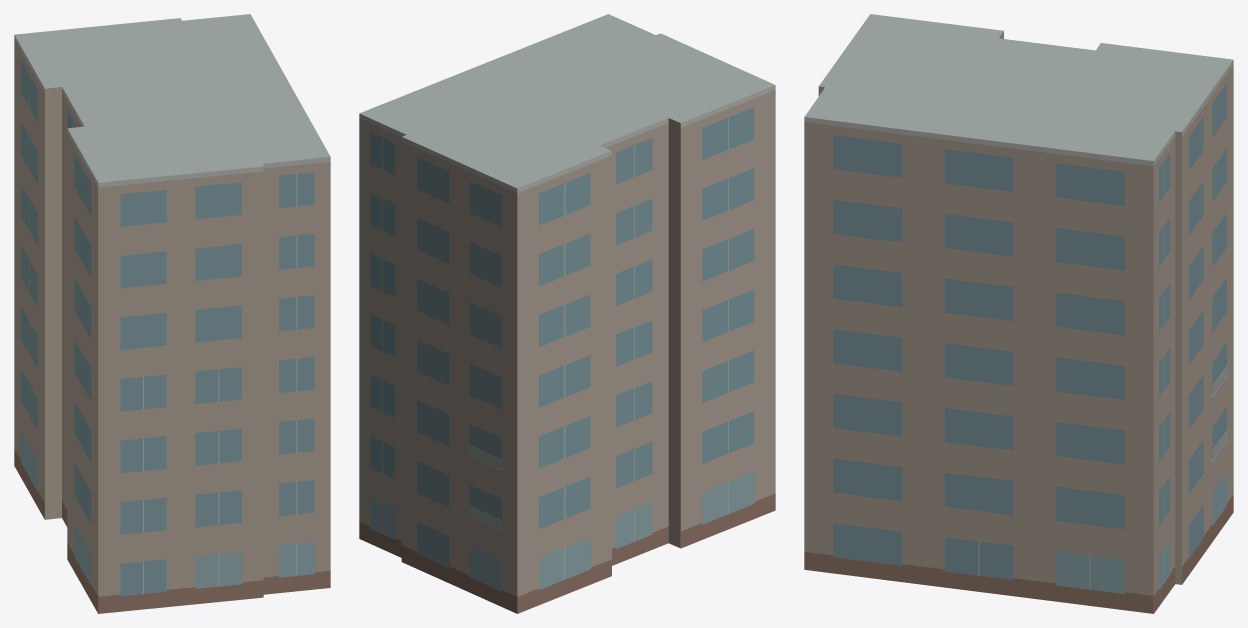
The model's file is survey-upis-32884818.glb.
The picture shows the model from 3 angles, left to right: view 1: azimuth 30°, elevation 25°; view 2: azimuth 150°, elevation 25°; view 3: azimuth 270°, elevation 25°; orthographic projection. The views are drawn at different scales.
Parts seen in each view (by area): view 1: survey-upis-32884818.tmp; view 2: survey-upis-32884818.tmp; view 3: survey-upis-32884818.tmp.
Boxes of the visible parts, x1,y1,x2,y2 form: survey-upis-32884818.tmp: (14, 14, 330, 613); survey-upis-32884818.tmp: (359, 14, 775, 613); survey-upis-32884818.tmp: (804, 14, 1233, 613).
Size of the model in its own units: 15.14 by 21.7 by 18.66.
